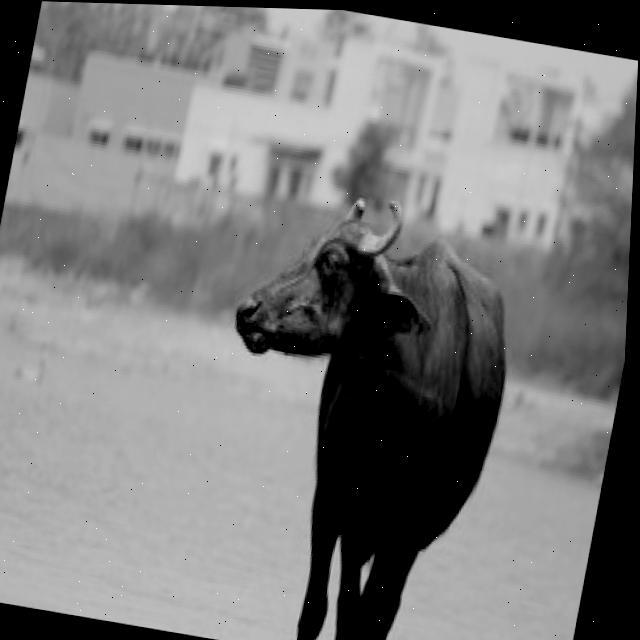Buffalo: (173, 170, 540, 640)
